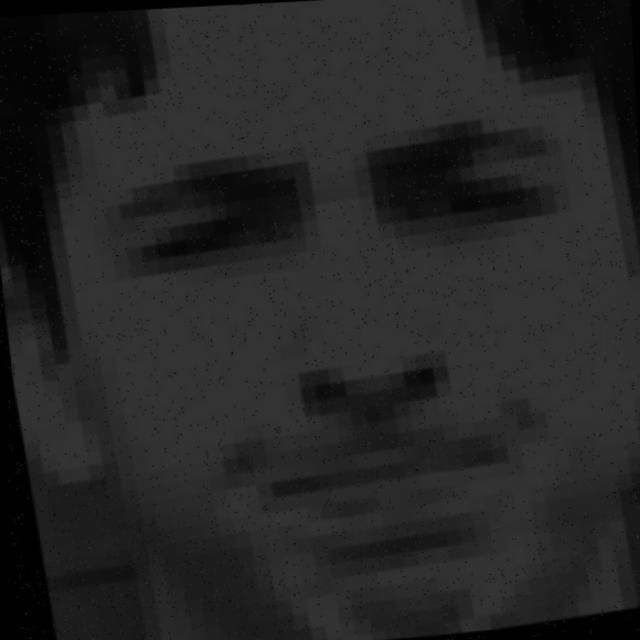Disgust: (6, 30, 622, 593)
